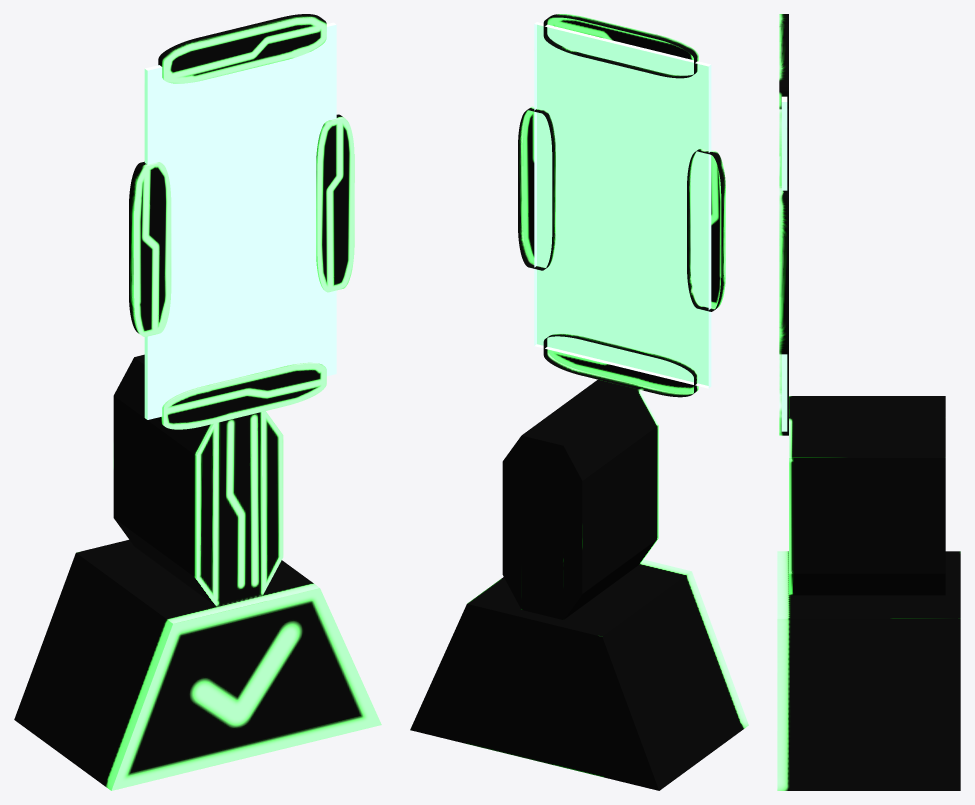
Rendered from Level Start.fbx.
3 views of the same model, side by side, from view 1: azimuth 30°, elevation 25°; view 2: azimuth 150°, elevation 25°; view 3: azimuth 270°, elevation 25° (orthographic). The views are drawn at different scales.
Visible parts, largest first — view 1: Base001, Plane001, PostSide001, Post001, TopPart003, TopPart002, TopPart004, TopPart001, PostSide002; view 2: Plane001, Base001, PostSide001, Post001, TopPart001, TopPart004, TopPart002, TopPart003, PostSide002; view 3: Base001, PostSide002, Post001, TopPart004, Plane001, TopPart002, TopPart001, TopPart003.
Boxes of the visible parts, left/top/right/bottom form: Base001: left=14, top=540, right=381, bottom=790; Plane001: left=144, top=22, right=336, bottom=419; PostSide001: left=113, top=357, right=216, bottom=606; Post001: left=134, top=354, right=262, bottom=606; TopPart003: left=129, top=161, right=171, bottom=336; TopPart002: left=158, top=14, right=326, bottom=83; TopPart004: left=316, top=114, right=354, bottom=292; TopPart001: left=158, top=362, right=326, bottom=429; PostSide002: left=262, top=411, right=283, bottom=595; Plane001: left=534, top=22, right=711, bottom=388; Base001: left=410, top=559, right=748, bottom=790; PostSide001: left=563, top=390, right=658, bottom=619; Post001: left=521, top=379, right=639, bottom=619; TopPart001: left=543, top=333, right=698, bottom=397; TopPart004: left=518, top=106, right=555, bottom=270; TopPart002: left=543, top=14, right=698, bottom=78; TopPart003: left=687, top=148, right=725, bottom=311; PostSide002: left=502, top=436, right=521, bottom=608; Base001: left=777, top=551, right=960, bottom=790; PostSide002: left=789, top=417, right=945, bottom=595; Post001: left=789, top=396, right=945, bottom=416; TopPart004: left=779, top=186, right=788, bottom=354; Plane001: left=781, top=96, right=787, bottom=431; TopPart002: left=779, top=14, right=788, bottom=109; TopPart001: left=779, top=354, right=788, bottom=435; TopPart003: left=779, top=109, right=788, bottom=186.
Bounding box in the file's own units: 26.34 × 67.57 × 16.4.
Materials: 1 (1 with a texture image).
